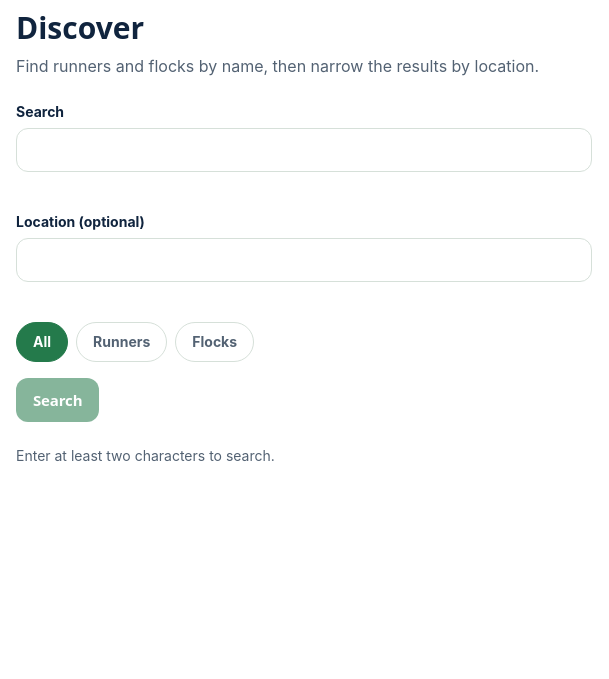
it: DiscoverPage › submits a term and renders runner and flock results
Type "Alex" into the field named "Search runners and flocks" at (304, 150), box [16,128,592,172]
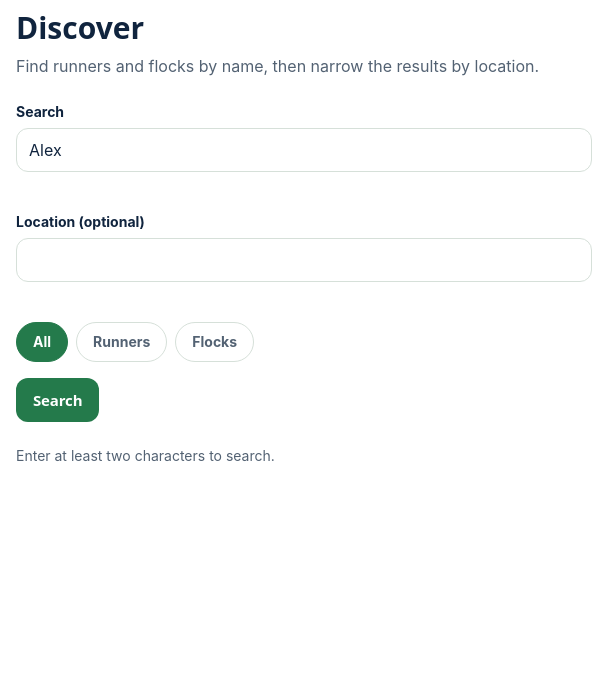
Click the button "Search" at (58, 400), box [16,378,99,422]
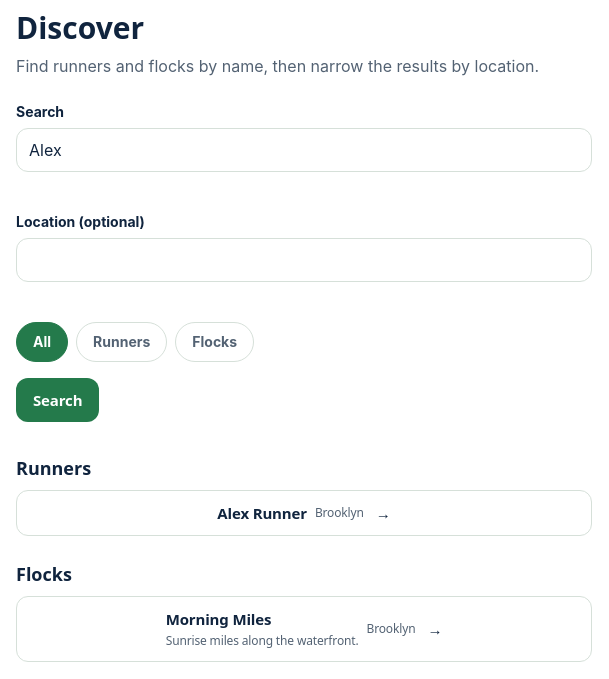
Result: the text "Alex Runner" is shown at [217,503,307,523]
Result: the text "Morning Miles" is shown at [166,609,271,629]
Result: the text "Sunrise miles along the waterfront." is shown at [166,633,358,649]
